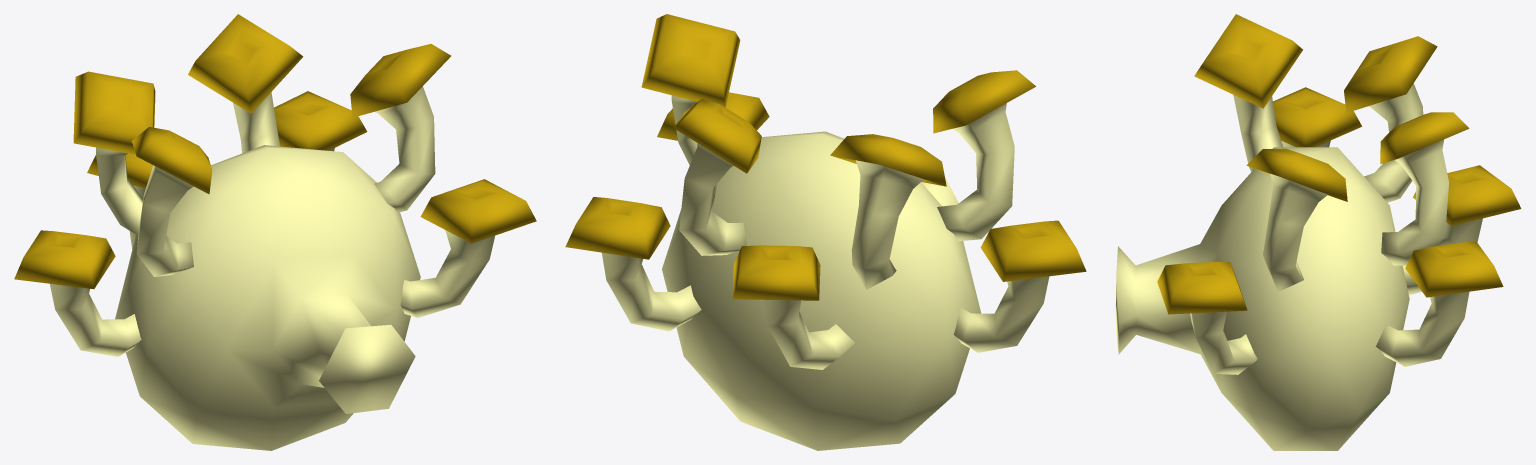
Rendered from fungus yellow ball.obj.
3 views of the same model, side by side, from view 1: azimuth 30°, elevation 25°; view 2: azimuth 150°, elevation 25°; view 3: azimuth 270°, elevation 25° (orthographic). The views are drawn at different scales.
Parts seen in each view (by area): view 1: fungo.048; view 2: fungo.048; view 3: fungo.048.
Part boxes in pixels (x1,y1,x2,y2): fungo.048: (14, 14, 536, 450); fungo.048: (565, 14, 1086, 450); fungo.048: (1115, 14, 1521, 450).
Bounding box in the file's own units: 1.39 × 1.1 × 1.12.
